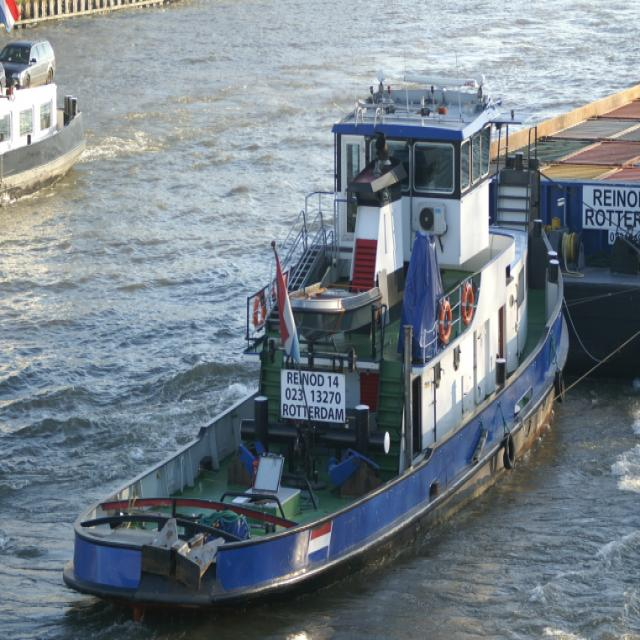tugboat: (58, 65, 577, 630)
